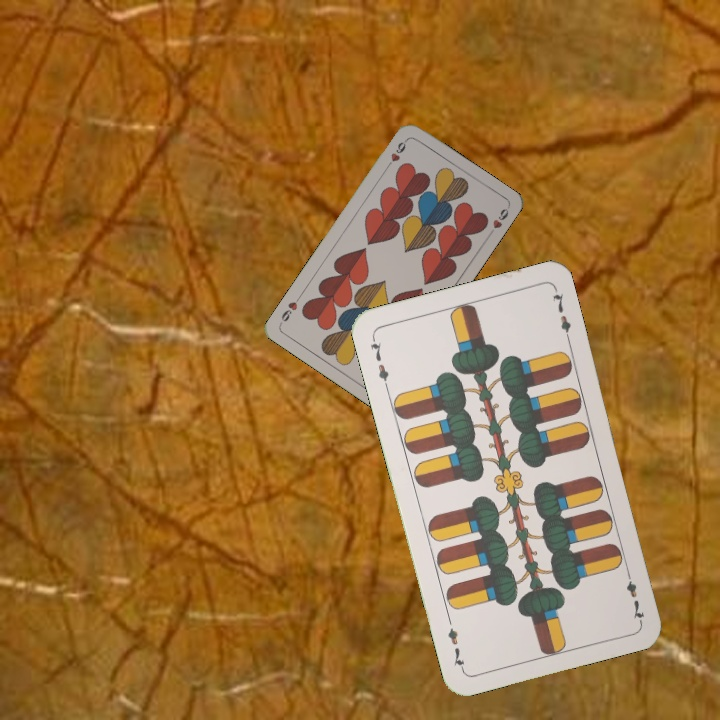E7: (366, 333, 392, 391), (622, 565, 647, 624)
H9: (382, 135, 410, 171)
